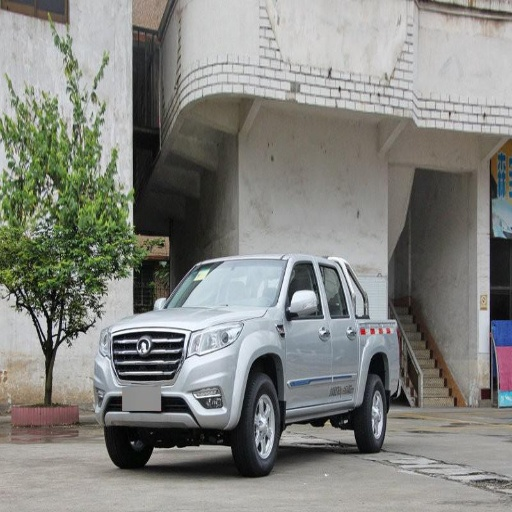front_bumper: (91, 328, 248, 425)
front_glass: (165, 260, 284, 307)
front_left_door: (284, 259, 331, 407)
trunk: (358, 319, 402, 388)
